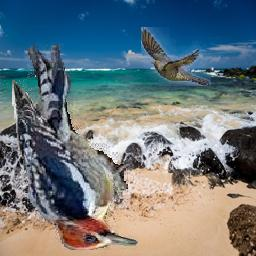Cuckoo: (141, 28, 211, 87)
Woodpecker: (12, 40, 138, 250)
